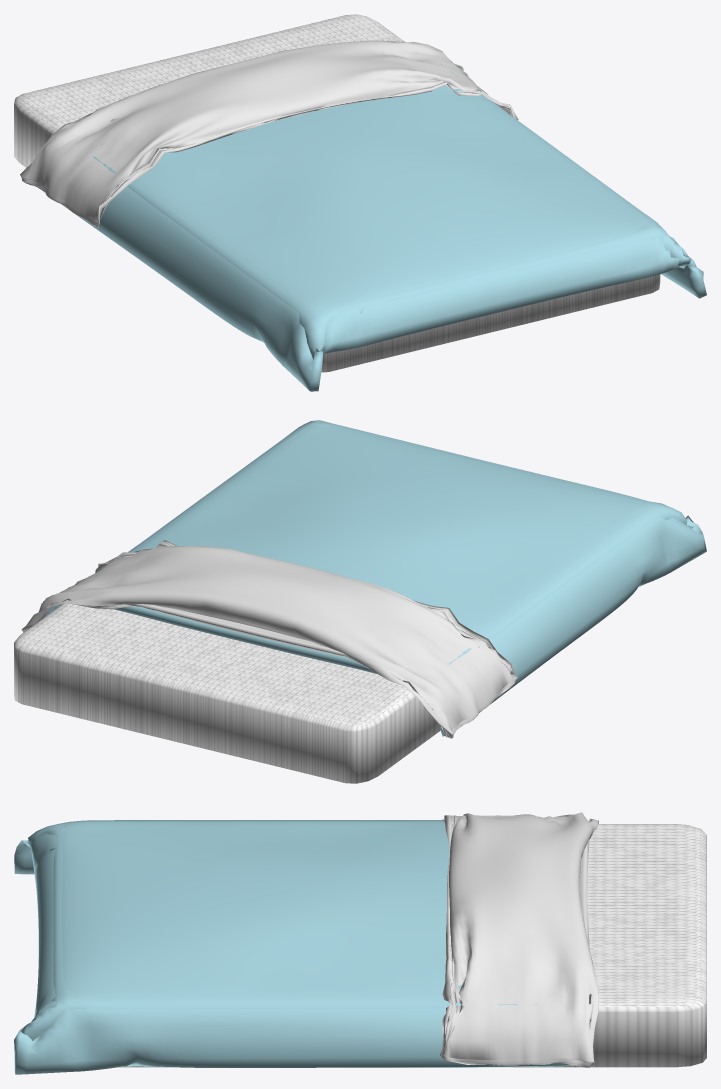
Rendered from bed.glb.
3 renders of one model, top to bottom at view 1: azimuth 30°, elevation 25°; view 2: azimuth 150°, elevation 25°; view 3: azimuth 270°, elevation 25°, orthographic. The views are drawn at different scales.
Parts seen in each view (by area): view 1: Plane.006, Plane.005; view 2: Plane.006, Plane.005; view 3: Plane.006, Plane.005.
Boxes of the visible parts, left/top/right/bottom form: Plane.006: left=20, top=40, right=706, bottom=391; Plane.005: left=14, top=14, right=660, bottom=372; Plane.006: left=21, top=420, right=706, bottom=738; Plane.005: left=14, top=603, right=440, bottom=783; Plane.006: left=14, top=812, right=598, bottom=1074; Plane.005: left=118, top=824, right=706, bottom=1067.
Size of the model in its own units: 10.11 by 2.26 by 13.22.
Materials: 2 (1 with a texture image).
